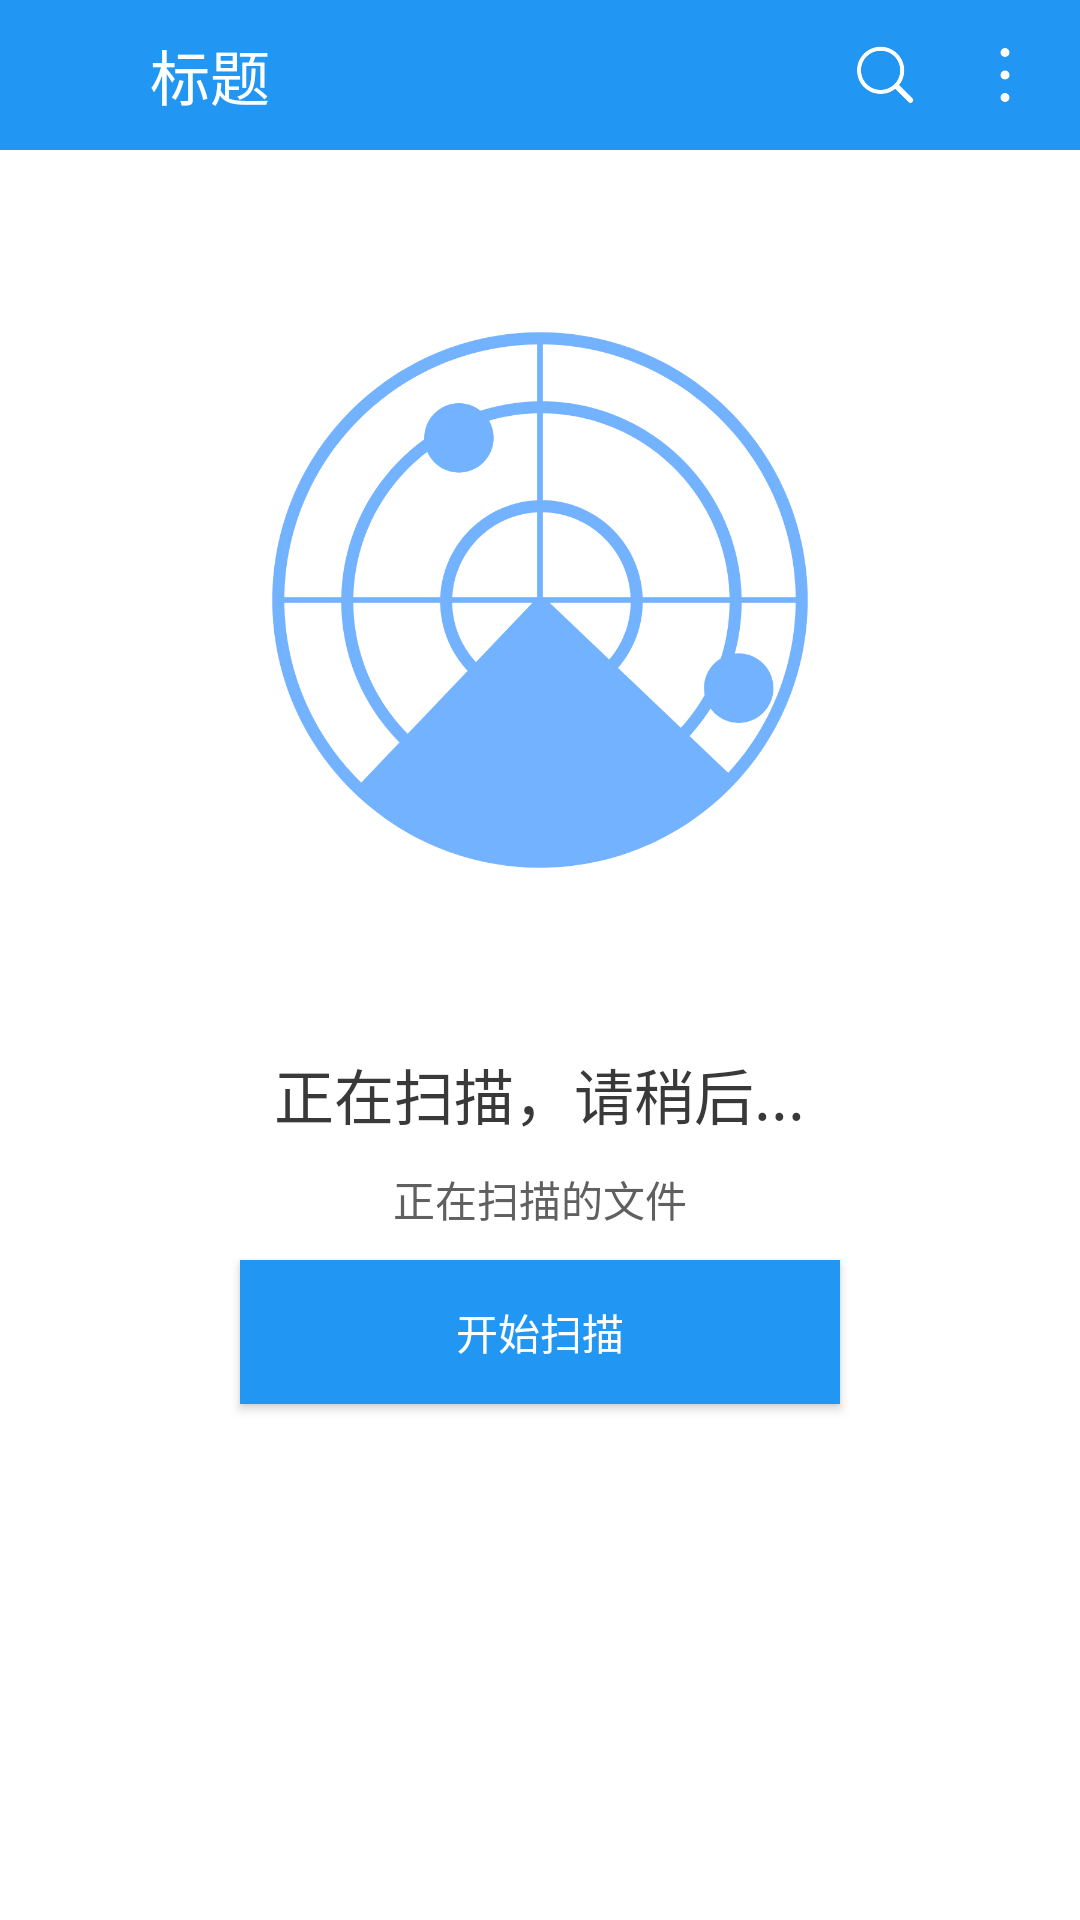

Icon click points for this 1080 x 1920 phone screenshot, format [x,y]:
search: [885,74]
title menu: [1005,75]
